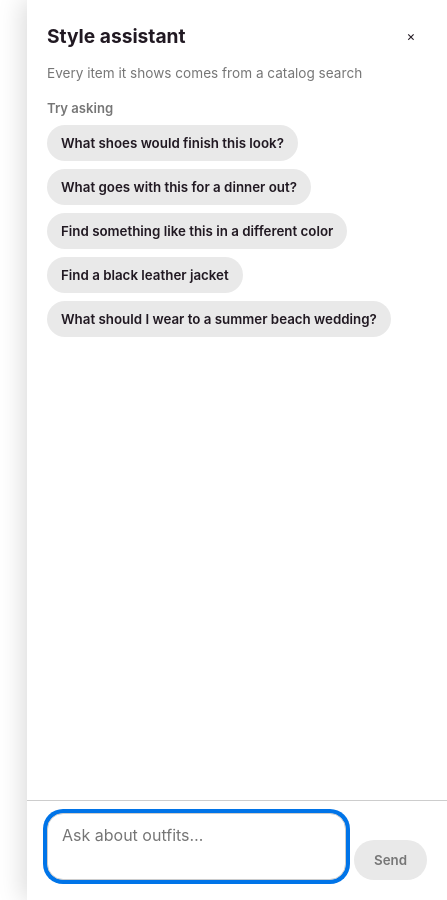
Test case: AssistantPanel › streams, shows tool activity, and renders only validated items with numbered citations
Type "boots for this?" into the text box named "Ask the style assistant".
click(196, 847); type("boots for this?")  # box [47, 813, 346, 880]
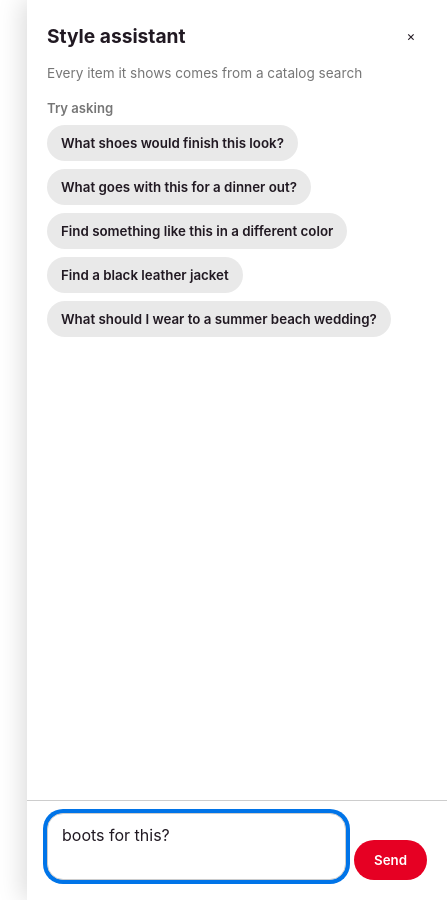
Click the button "Send".
click(390, 860)  # box [354, 840, 427, 880]
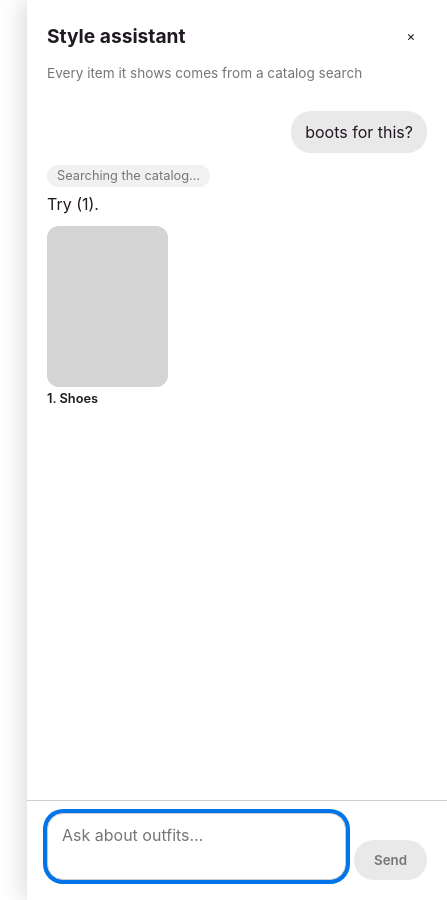
Expected: the text "Try (1)." is shown, [47, 194, 99, 214]
Expected: the list item "Searching the catalog…" is shown, [47, 165, 210, 187]
